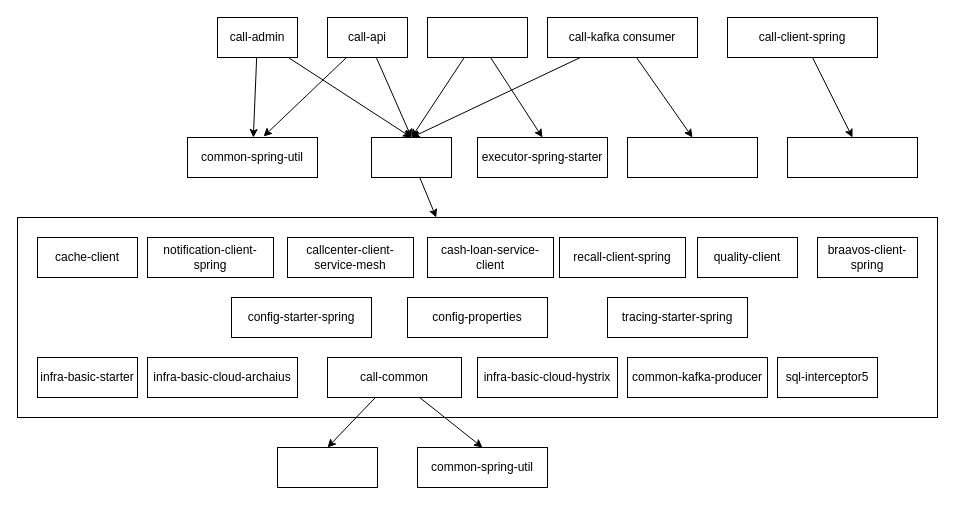
Some shapes in this 955 by 505 pixel diagram are drawn without their labels. The shapes that lost their labels are listed below. From the top down, each one's centre as x and y in pixels, then its label:
At [477,37]: "call-schedule".
At [411,157]: "call-core".
At [692,157]: "common-kafka-consumer".
At [852,157]: "infra-basic-cloud-client-builder".
At [327,467]: "common-util".
